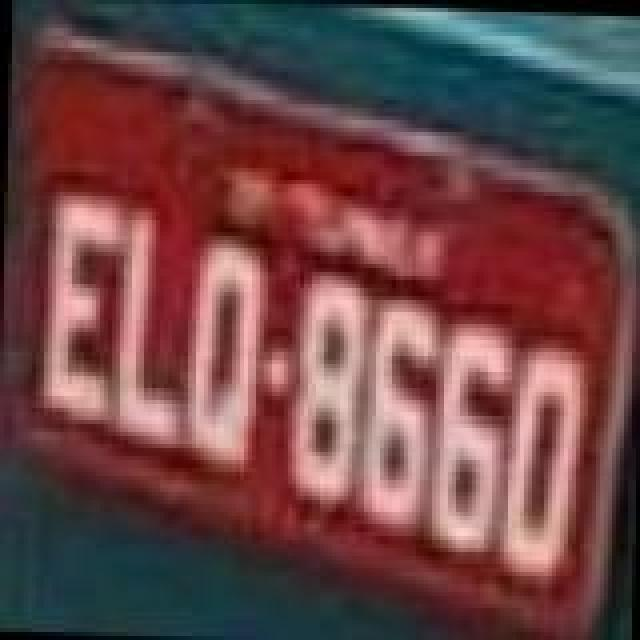6: (354, 286, 438, 538), (426, 306, 510, 558)
8: (284, 264, 368, 516)
E: (34, 192, 126, 432)
L: (114, 204, 190, 456)
O: (502, 334, 594, 586)
Q: (180, 232, 264, 484)
